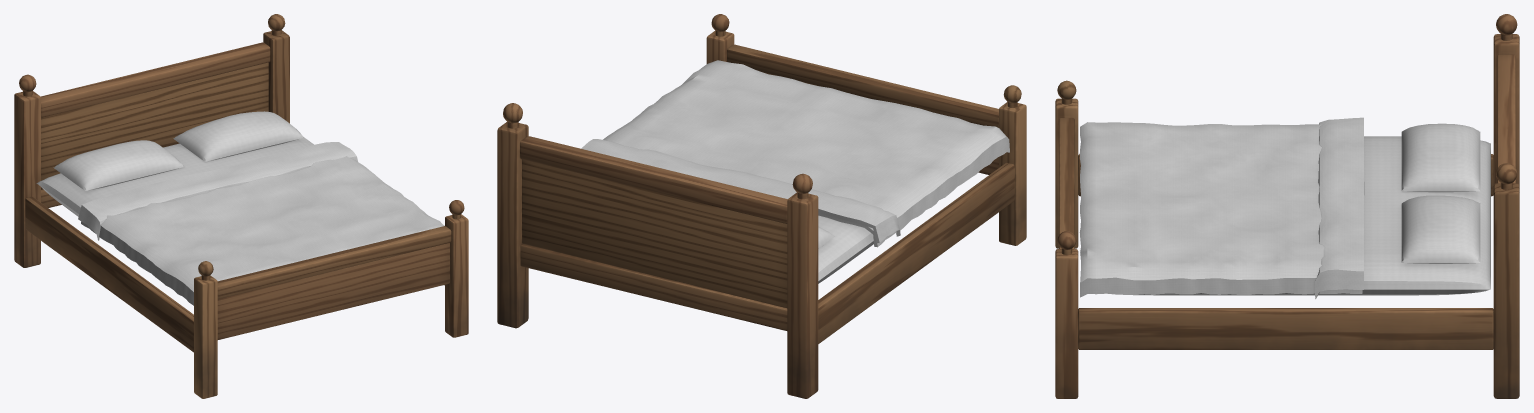
File: bed_double.glb
3 views of the same model, side by side, from view 1: azimuth 30°, elevation 25°; view 2: azimuth 150°, elevation 25°; view 3: azimuth 270°, elevation 25° (orthographic). The views are drawn at different scales.
Parts seen in each view (by area): view 1: bed_double; view 2: bed_double; view 3: bed_double.
Boxes of the visible parts, x1,y1,x2,y2 form: bed_double: (14,14,468,398); bed_double: (497,14,1026,398); bed_double: (1055,14,1519,398).
Size of the model in its own units: 1.06 by 0.7126 by 1.3.
Materials: 2 (2 with a texture image).
